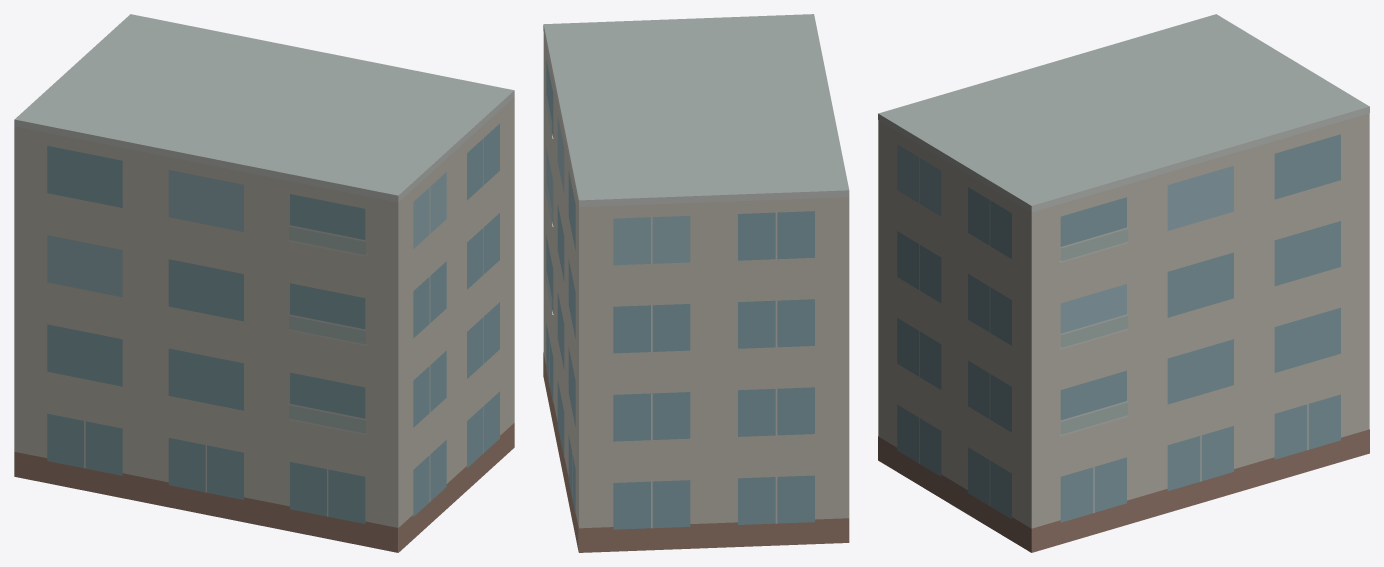
Rendered from survey-upis-32823539.glb.
3 renders of one model, left to right at view 1: azimuth 30°, elevation 25°; view 2: azimuth 150°, elevation 25°; view 3: azimuth 270°, elevation 25°, orthographic. The views are drawn at different scales.
Parts seen in each view (by area): view 1: survey-upis-32823539.tmp; view 2: survey-upis-32823539.tmp; view 3: survey-upis-32823539.tmp.
Boxes of the visible parts, bbox=[...] form: survey-upis-32823539.tmp: bbox=[14, 14, 514, 552]; survey-upis-32823539.tmp: bbox=[543, 14, 849, 552]; survey-upis-32823539.tmp: bbox=[878, 14, 1369, 552].
Bounding box in the file's own units: 15.2 × 12.8 × 16.45.
